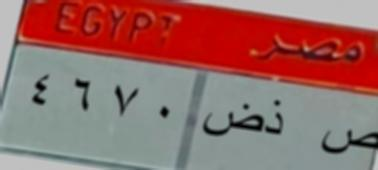0: (154, 98, 178, 128)
4: (24, 67, 55, 118)
6: (70, 74, 94, 119)
7: (111, 76, 140, 125)
daad: (200, 98, 264, 151)
saad: (315, 115, 378, 170)
zaal: (264, 94, 286, 146)
